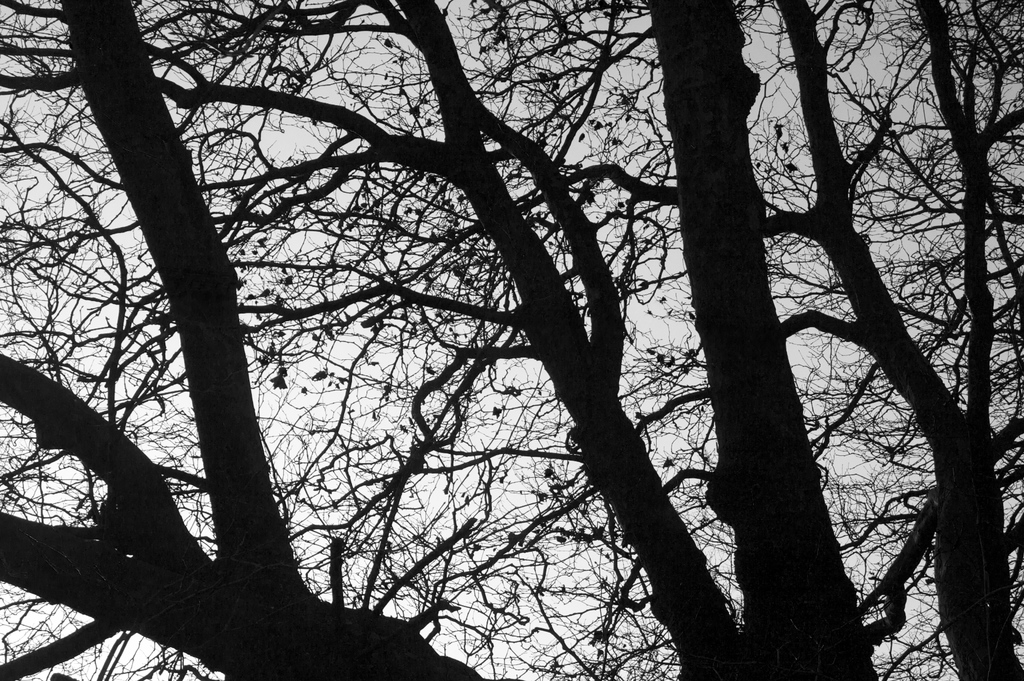Tree: (1, 0, 1022, 677)
